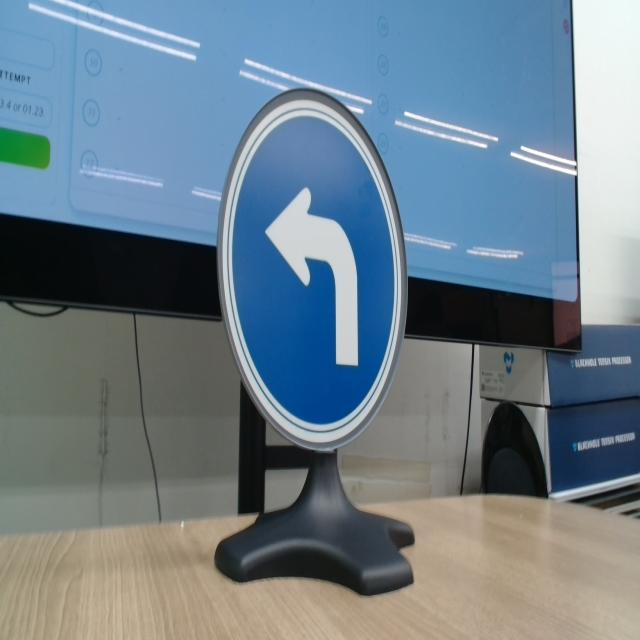left_direction: (208, 57, 415, 468)
